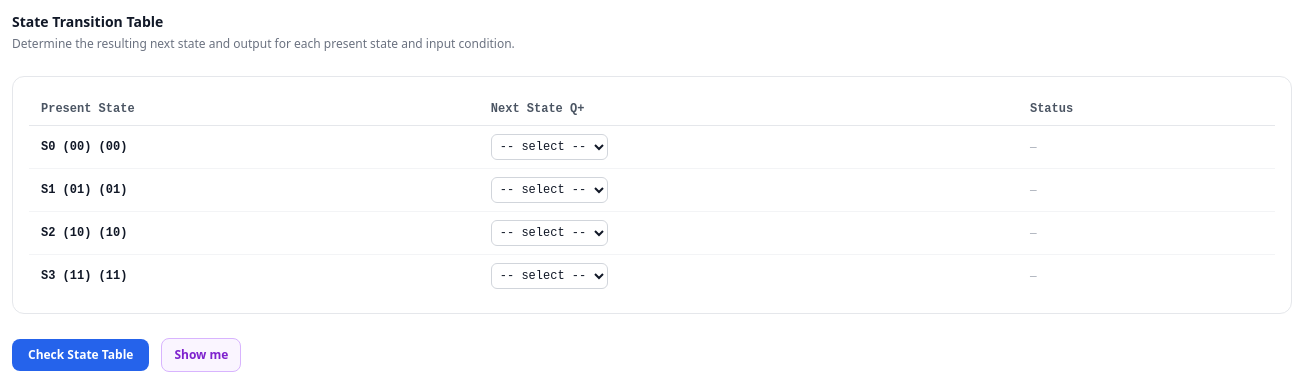
Scenario: StateTableEditor component › marks step verified when all cells are correctly filled
The width and height of the screenshot is (1304, 389).
Select "S1 (01) (01)" in the dropdown named "State 00 (S0 (00)), next state" at point(549, 147), box [491,134,608,160]
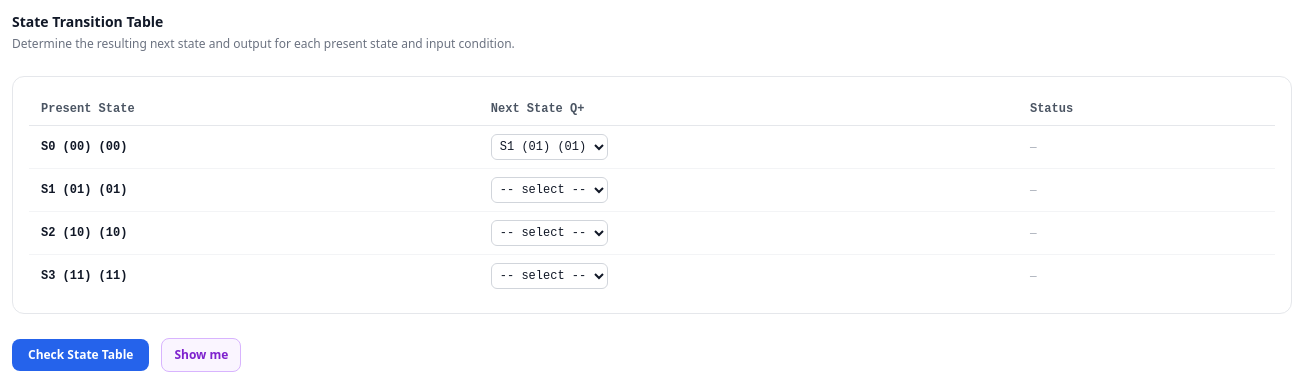
Select "S2 (10) (10)" in the dropdown named "State 01 (S1 (01)), next state" at point(549, 190), box [491,177,608,203]
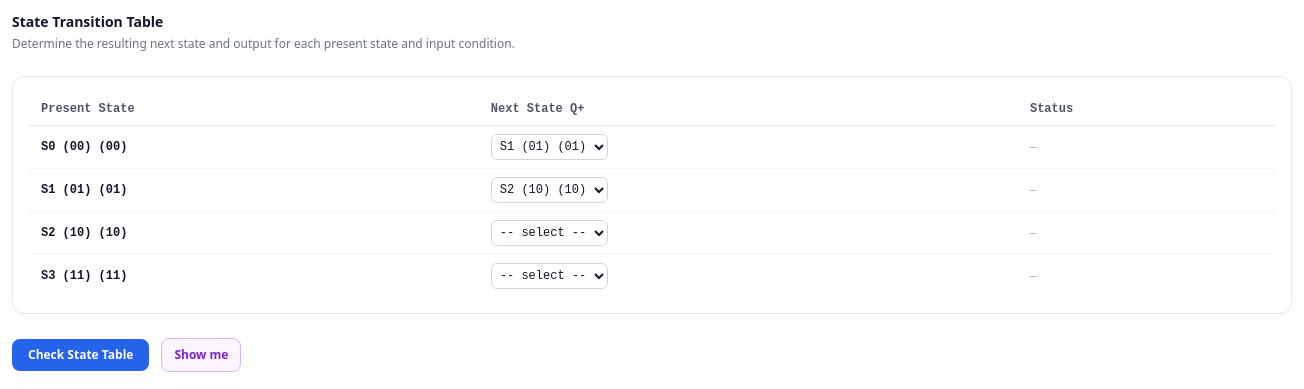
Select "S3 (11) (11)" in the dropdown named "State 10 (S2 (10)), next state" at point(549, 233), box [491,220,608,246]
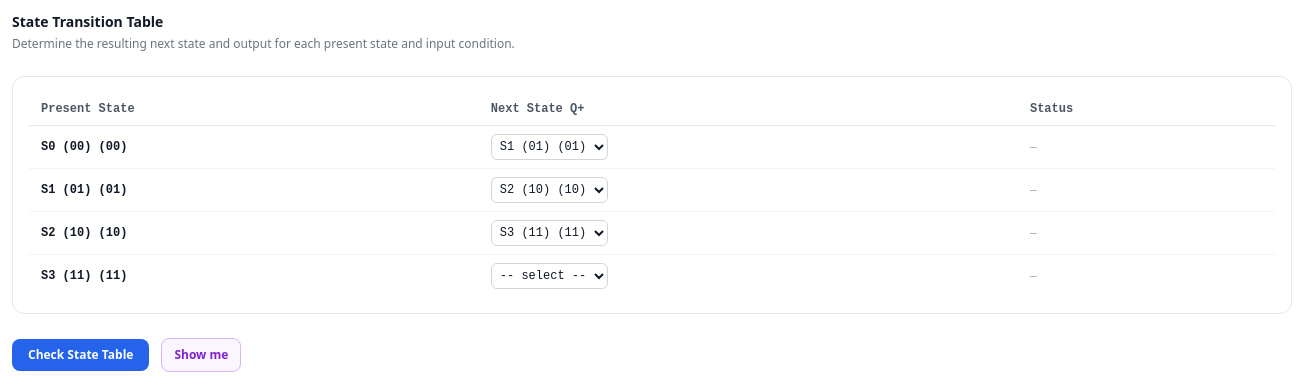
Select "S0 (00) (00)" in the dropdown named "State 11 (S3 (11)), next state" at point(549, 276), box [491,263,608,289]
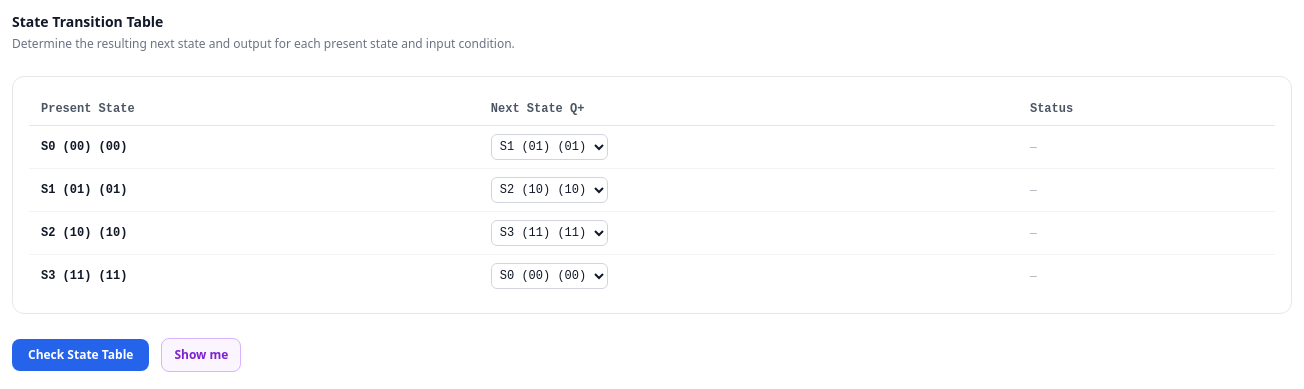
Click the button "Check State Table" at point(81, 355), box [12,339,149,371]
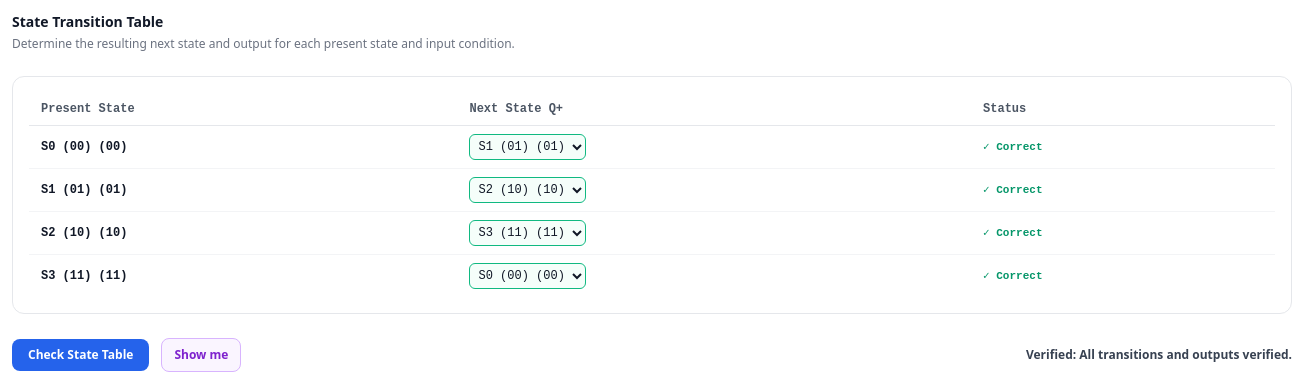
Expected: the text "✓ Correct" is shown 4 times, [983,141,1042,153]; [983,184,1042,196]; [983,227,1042,239]; [983,270,1042,282]
